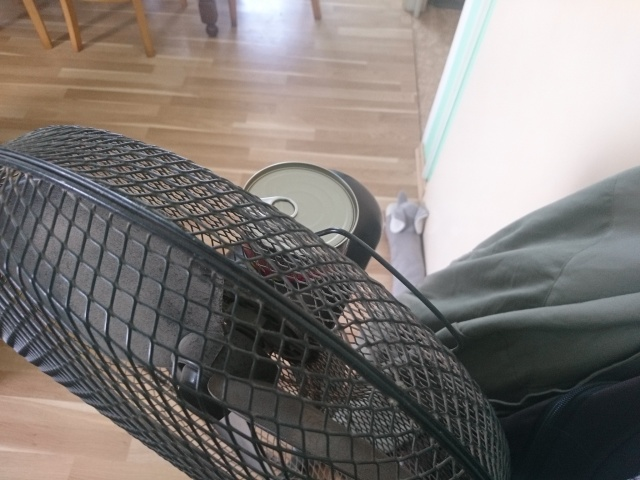Giana Tuna Salad Mexico 185g: (237, 158, 362, 284)
